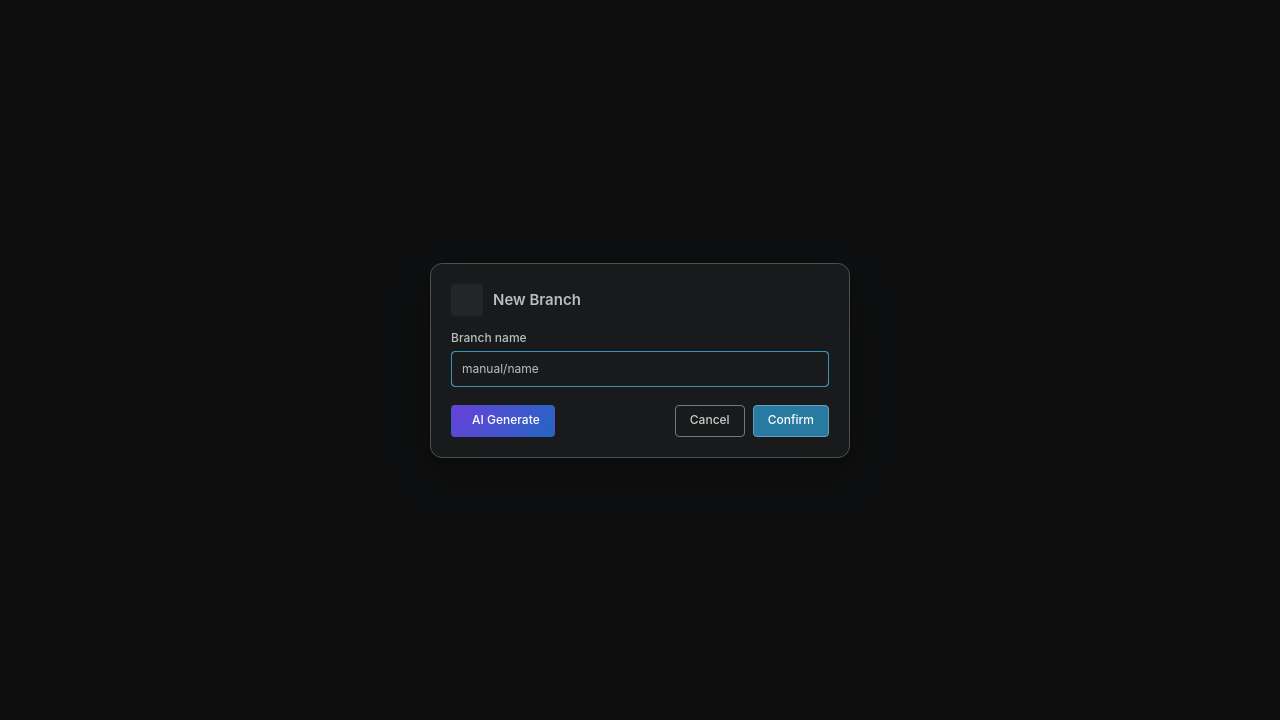
Scenario: AI branch name input › keeps the visible stop action usable and ignores late generation after stopping in en
Click the button "AI Generate" at (503, 420), box [451,404,555,436]
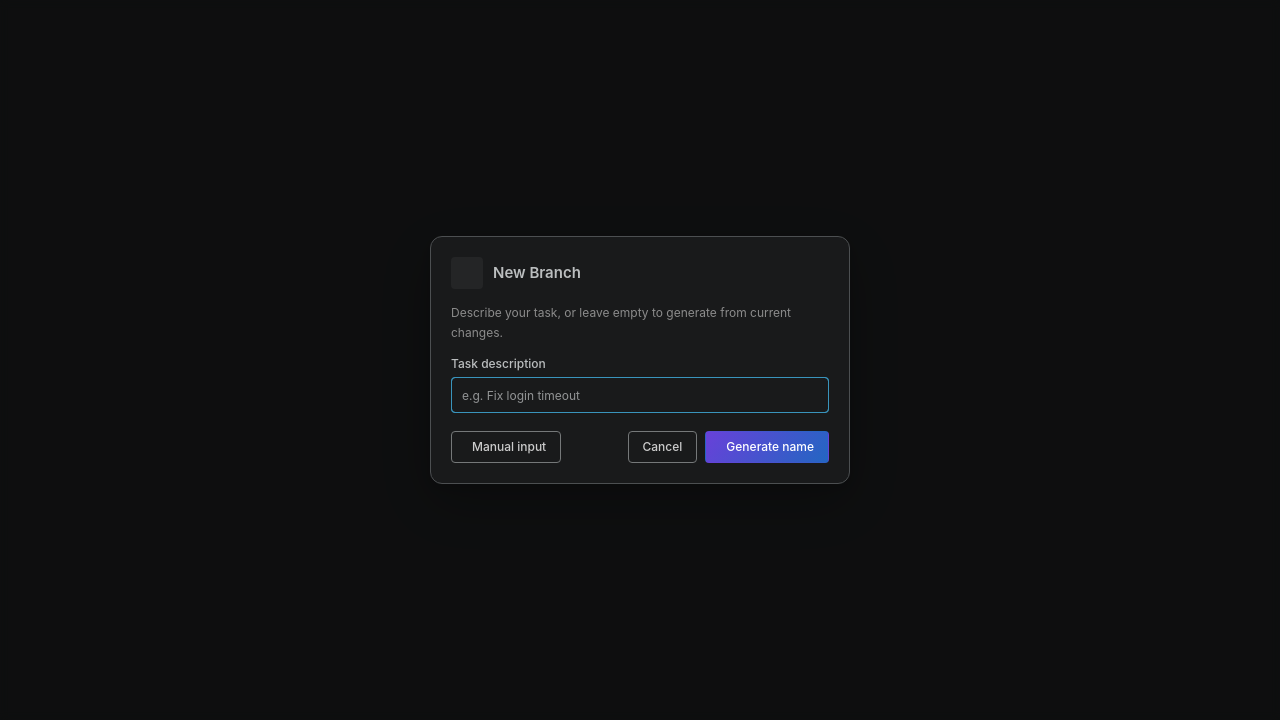
Expected: the button "Manual input" is enabled, [451,431,561,463]
Click the button "Generate name" at (767, 447), box [705,431,829,463]
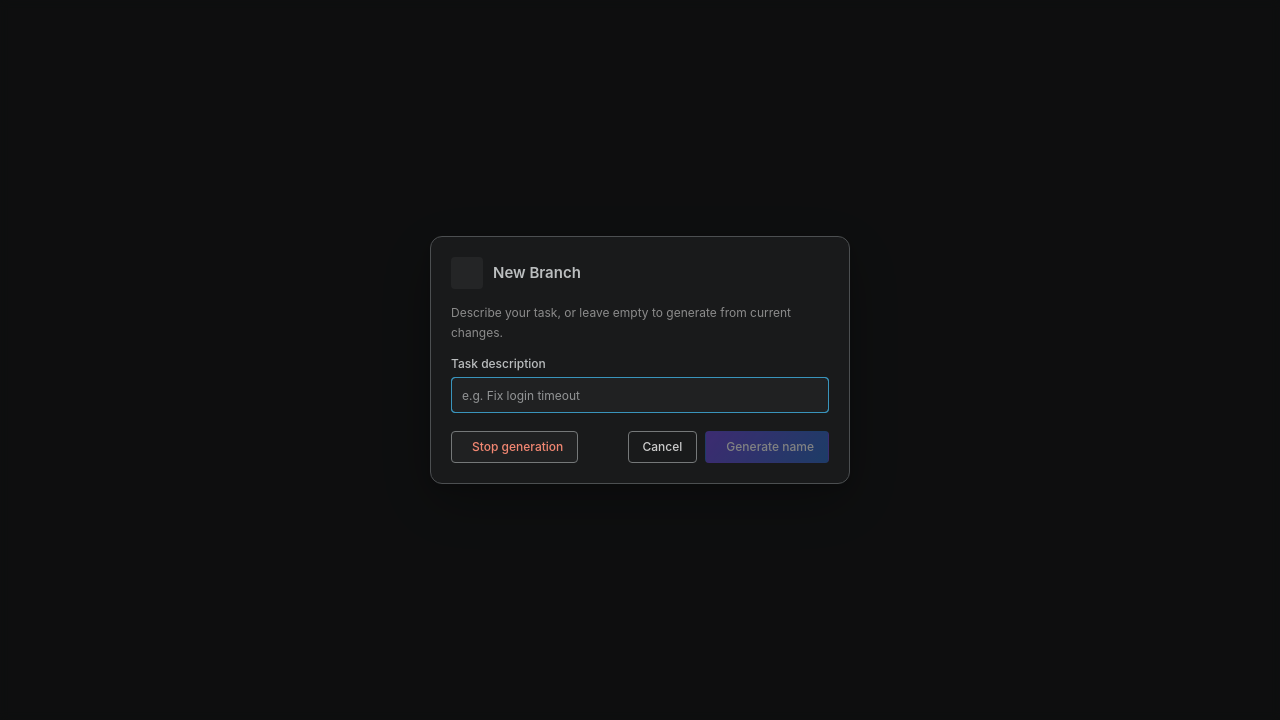
Expected: the field labelled "Task description" is enabled, [451,377,829,413]
Expected: the button "Generate name" is disabled, [705,431,829,463]
Click the button "Stop generation" at (515, 447), box [451,431,578,463]
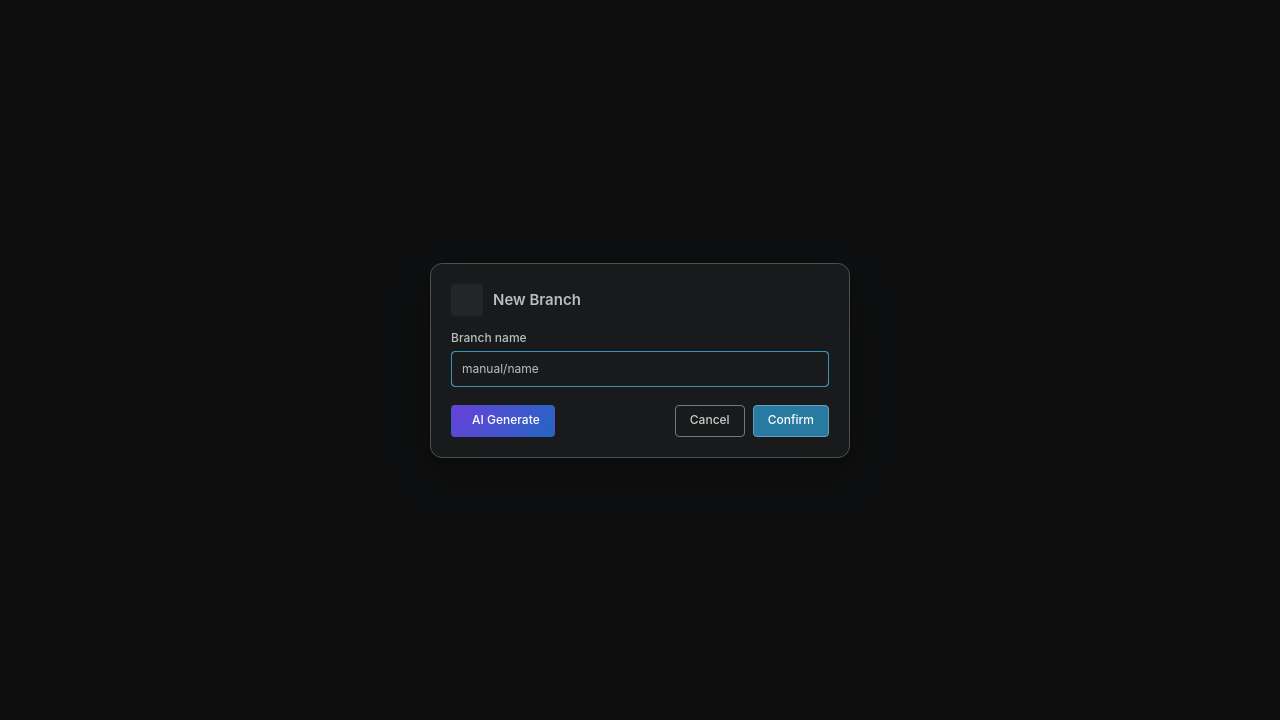
Expected: the button "AI Generate" is enabled, [451,404,555,436]
Expected: the field labelled "Branch name" holds "manual/name", [451,350,829,386]
